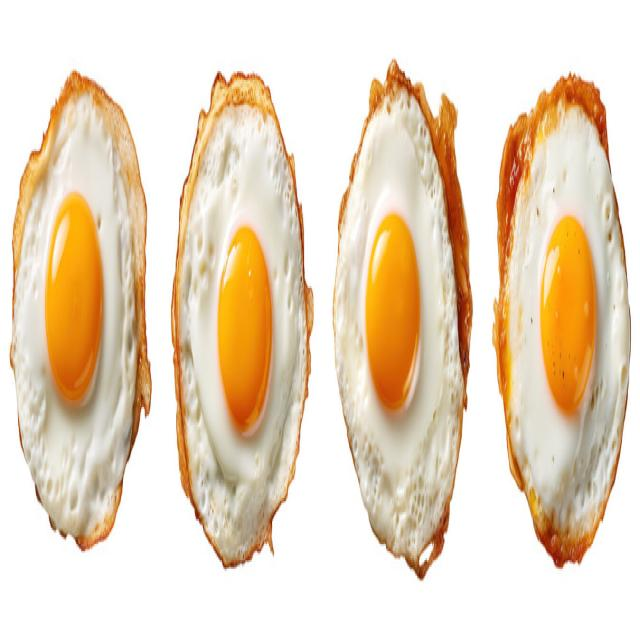Egg: (332, 61, 472, 576), (171, 75, 314, 566), (10, 70, 151, 548), (494, 75, 630, 562)
